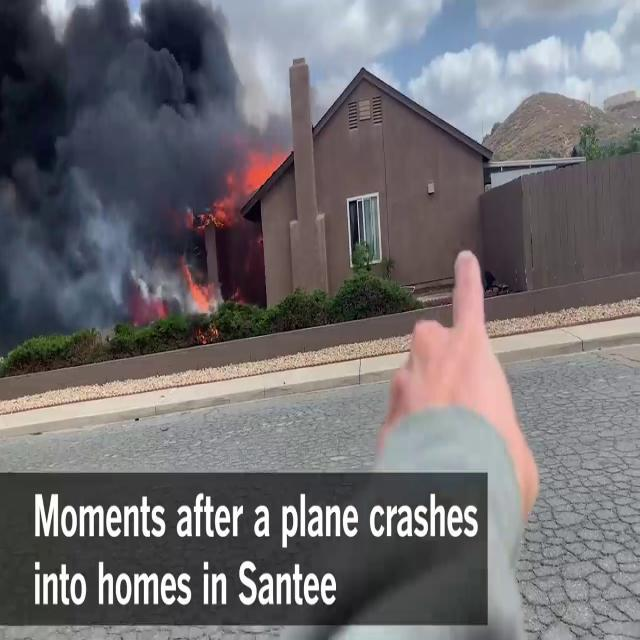Fire: (385, 237, 535, 499), (180, 261, 222, 327), (243, 146, 286, 197)
Smoke: (0, 0, 270, 343)
